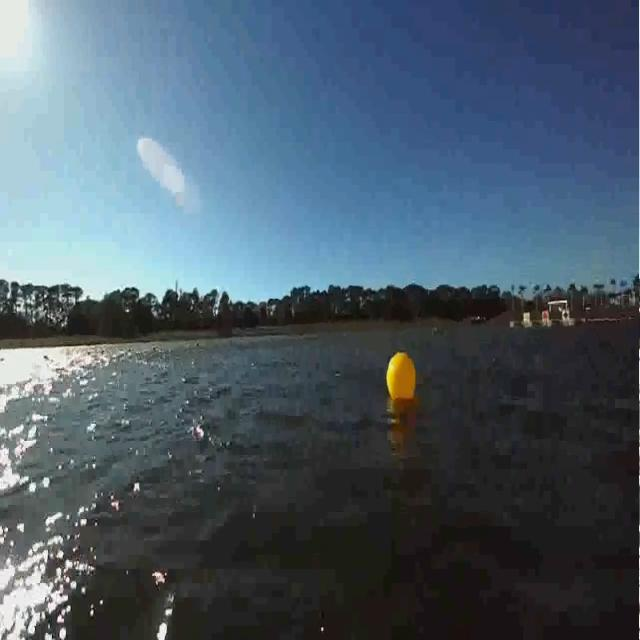yellow-buoy: (385, 352, 416, 404)
